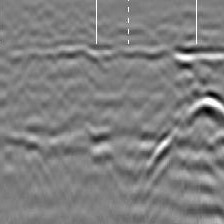Utility: (147, 91, 224, 183)
